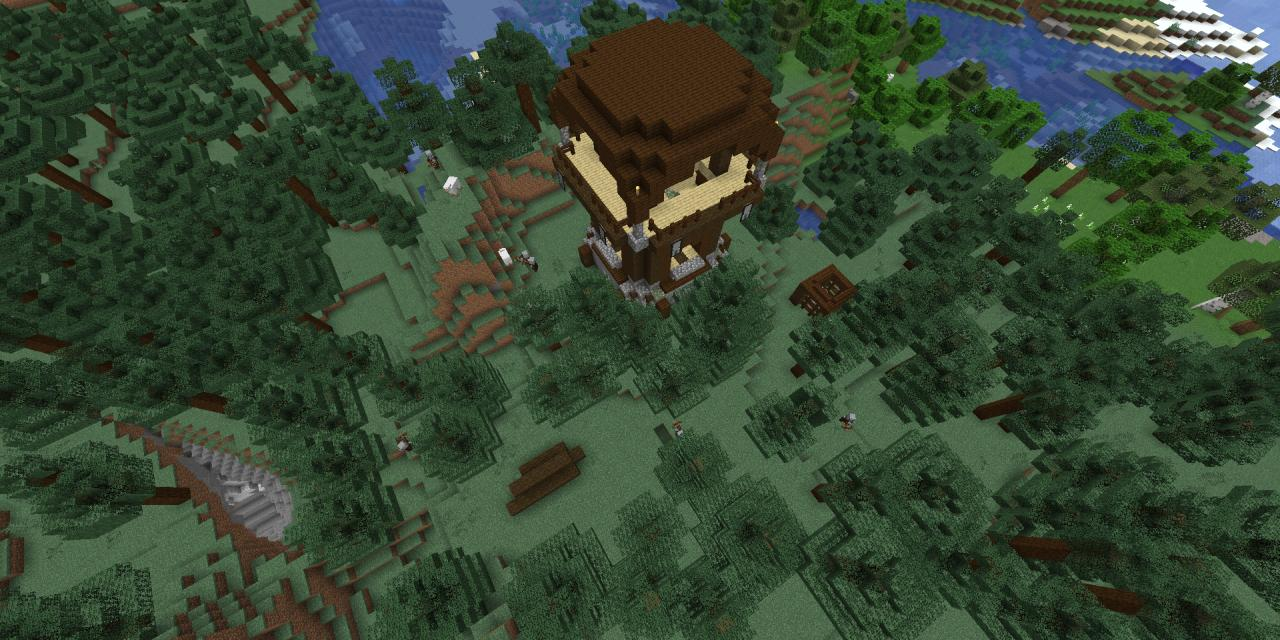pillager outpost: (547, 8, 794, 318)
